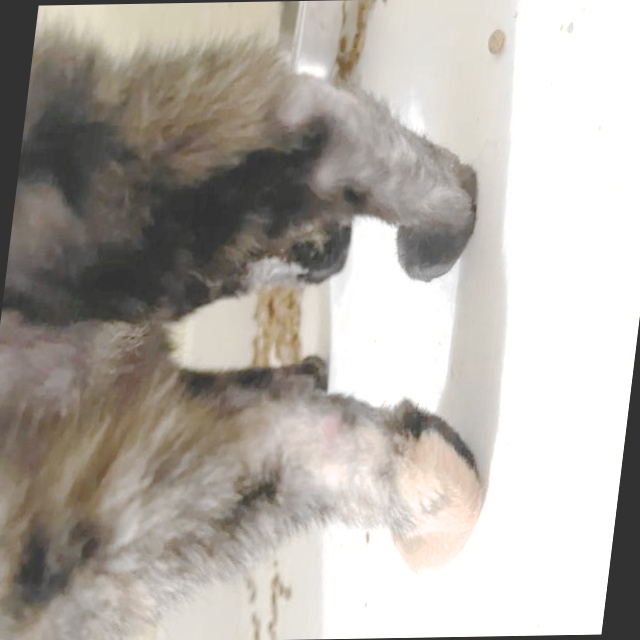hairloss: (264, 418, 410, 469), (295, 77, 365, 122)
